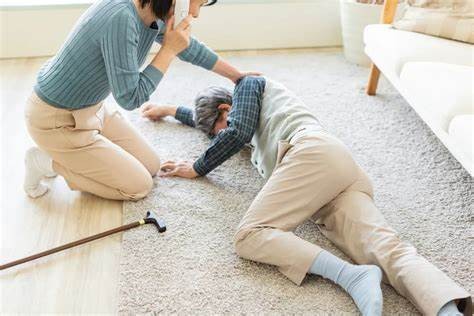falling: (179, 73, 469, 316)
sitting: (27, 1, 216, 209)
